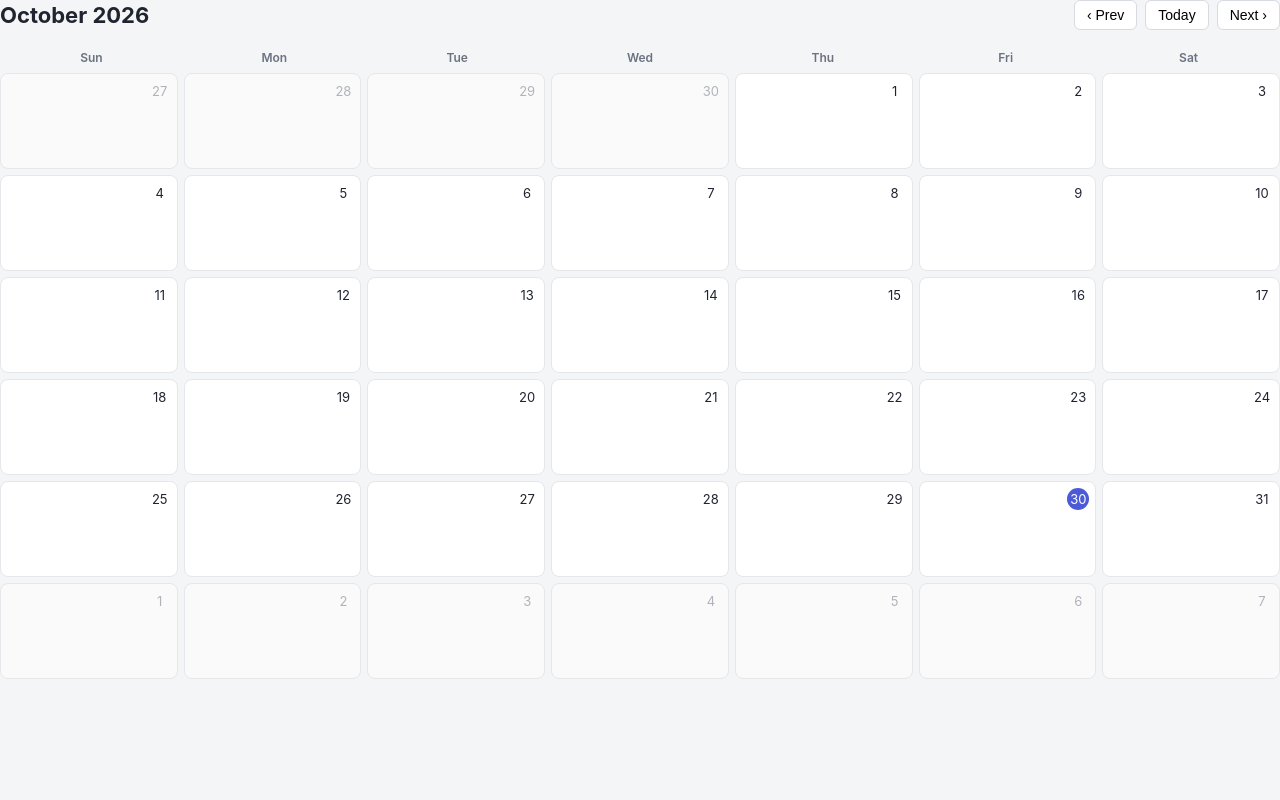
Test: clicking a day cell opens the schedule-post modal, and saving adds an event to that cell
The image size is (1280, 800).
Click the 2nd button "30".
click(1007, 529)  # box x1=919 y1=481 x2=1096 y2=577
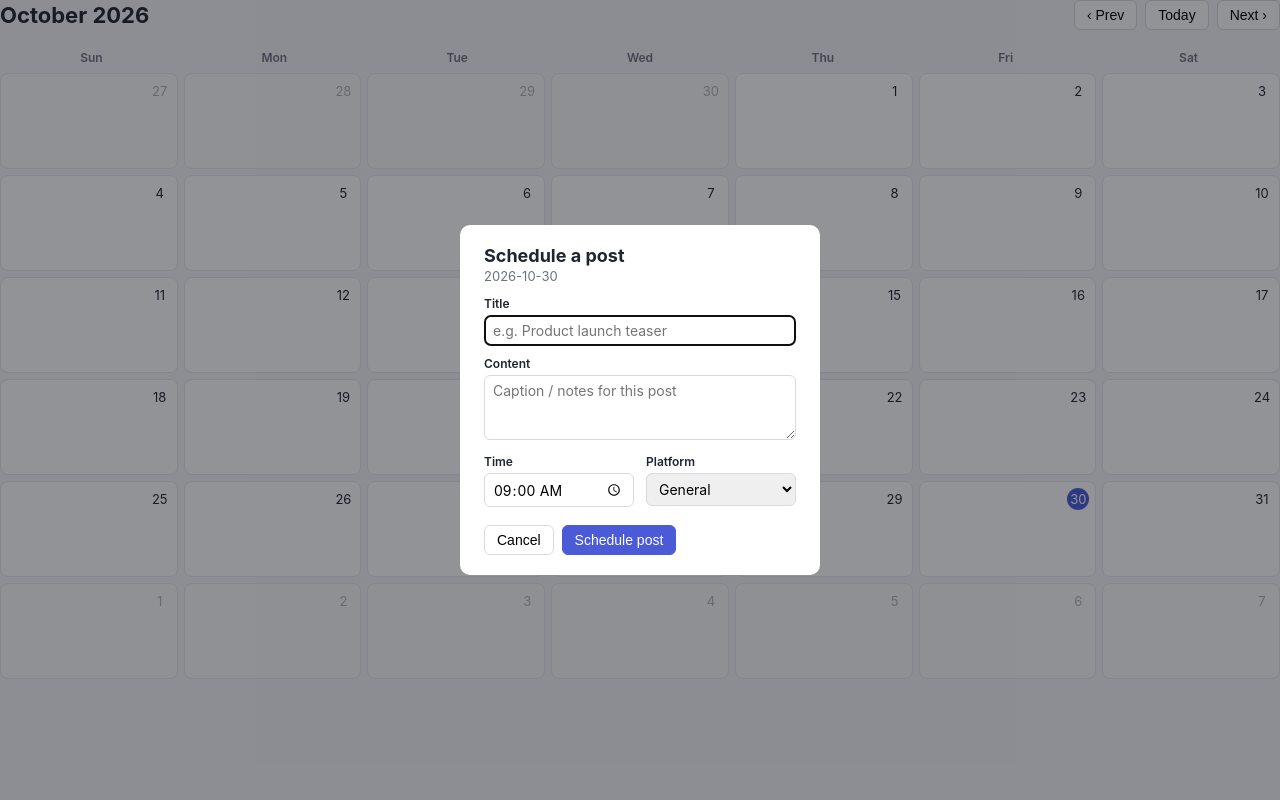
Check: the dialog is shown, box x1=460 y1=225 x2=820 y2=575
Type "Product launch teaser" into the field labelled "Title".
click(640, 330); type("Product launch teaser")  # box x1=484 y1=315 x2=796 y2=346
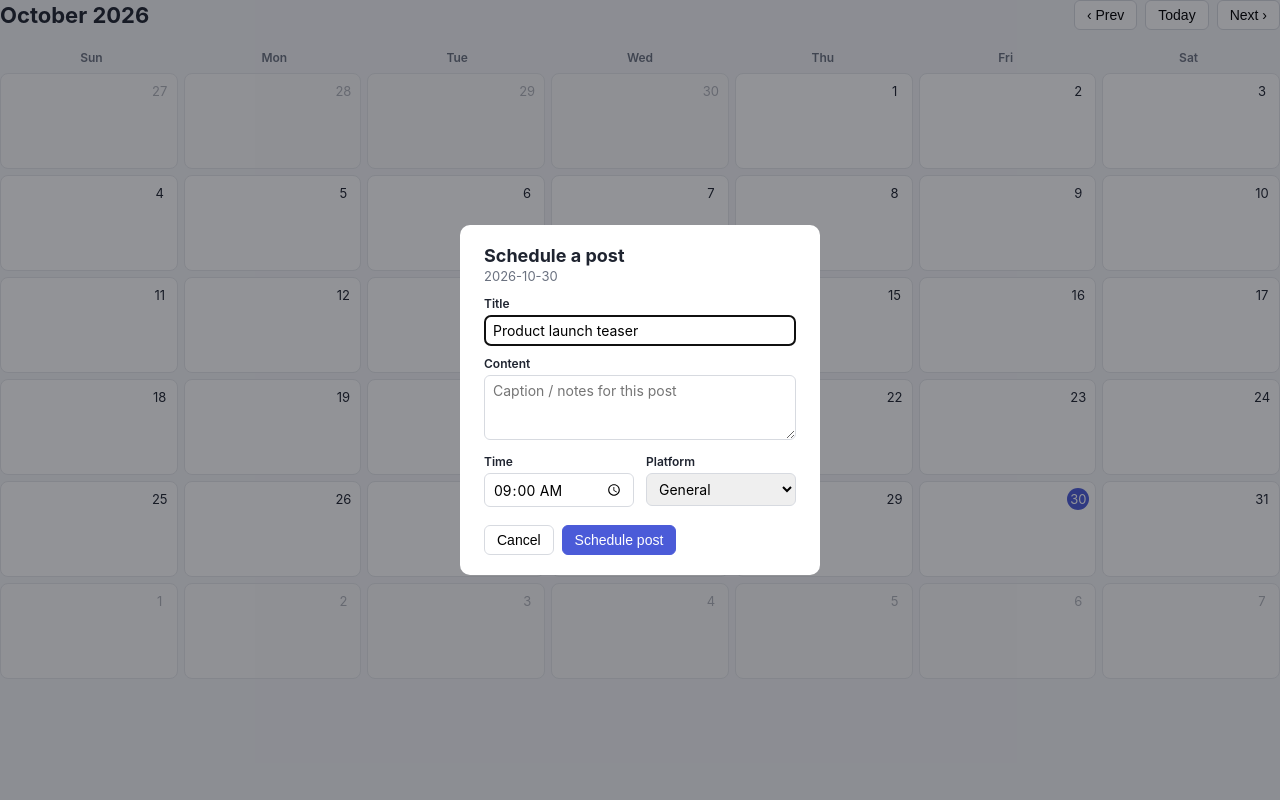
Click the button "Schedule post".
click(619, 540)  # box x1=562 y1=525 x2=676 y2=555
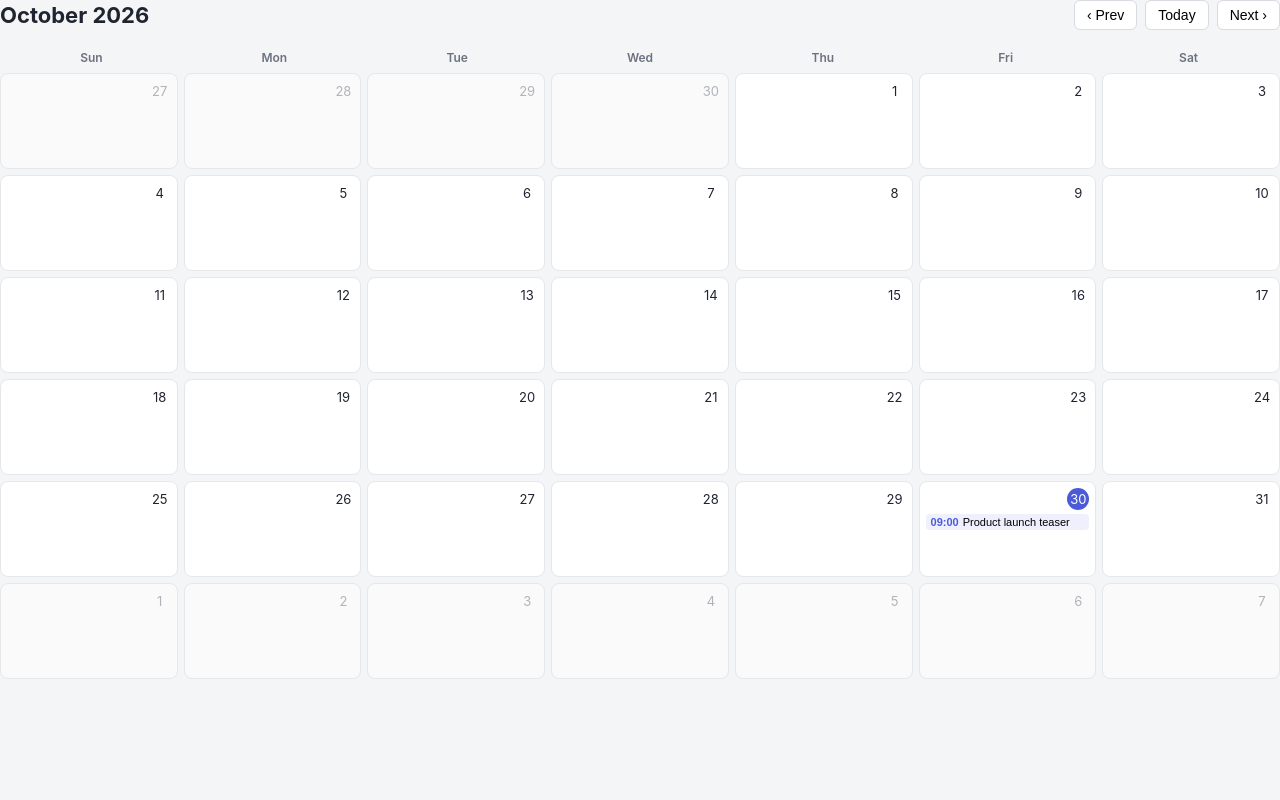
Check: the dialog is gone
Check: the text "Product launch teaser" is shown, box x1=963 y1=516 x2=1070 y2=528
